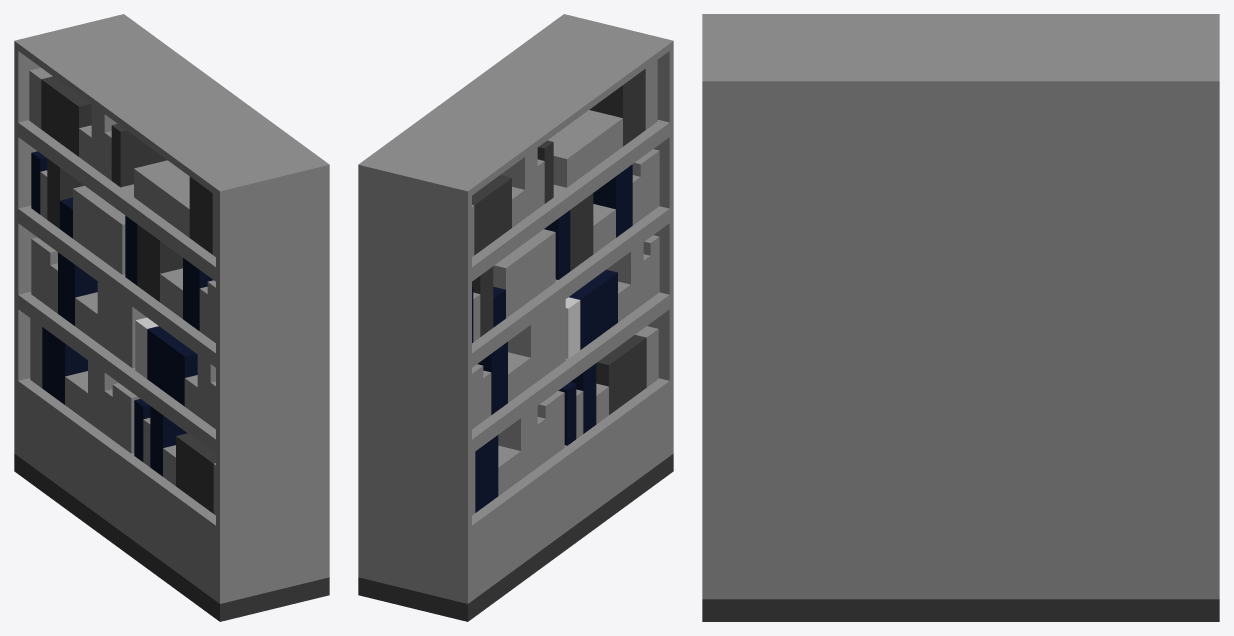
File: Shelf_04_snaps001.fbx
3 views of the same model, side by side, from view 1: azimuth 30°, elevation 25°; view 2: azimuth 150°, elevation 25°; view 3: azimuth 270°, elevation 25° (orthographic). The views are drawn at different scales.
Visible parts, largest first — view 1: Shelf_04_snaps001; view 2: Shelf_04_snaps001; view 3: Shelf_04_snaps001.
Boxes of the visible parts, x1=… form: Shelf_04_snaps001: x1=14, y1=14, x2=329, y2=621; Shelf_04_snaps001: x1=358, y1=14, x2=673, y2=621; Shelf_04_snaps001: x1=702, y1=14, x2=1219, y2=621.
Bounding box in the file's own units: 50 × 188 × 163.
